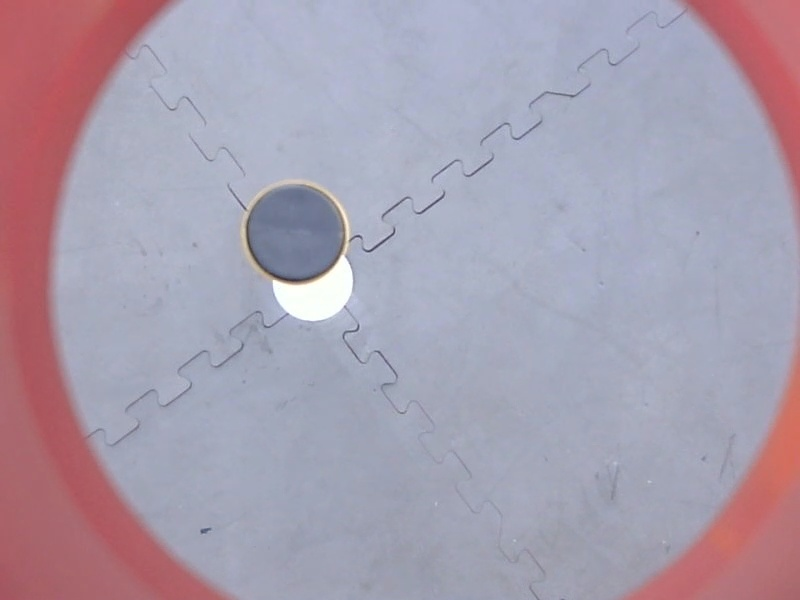tip: (237, 177, 357, 289)
